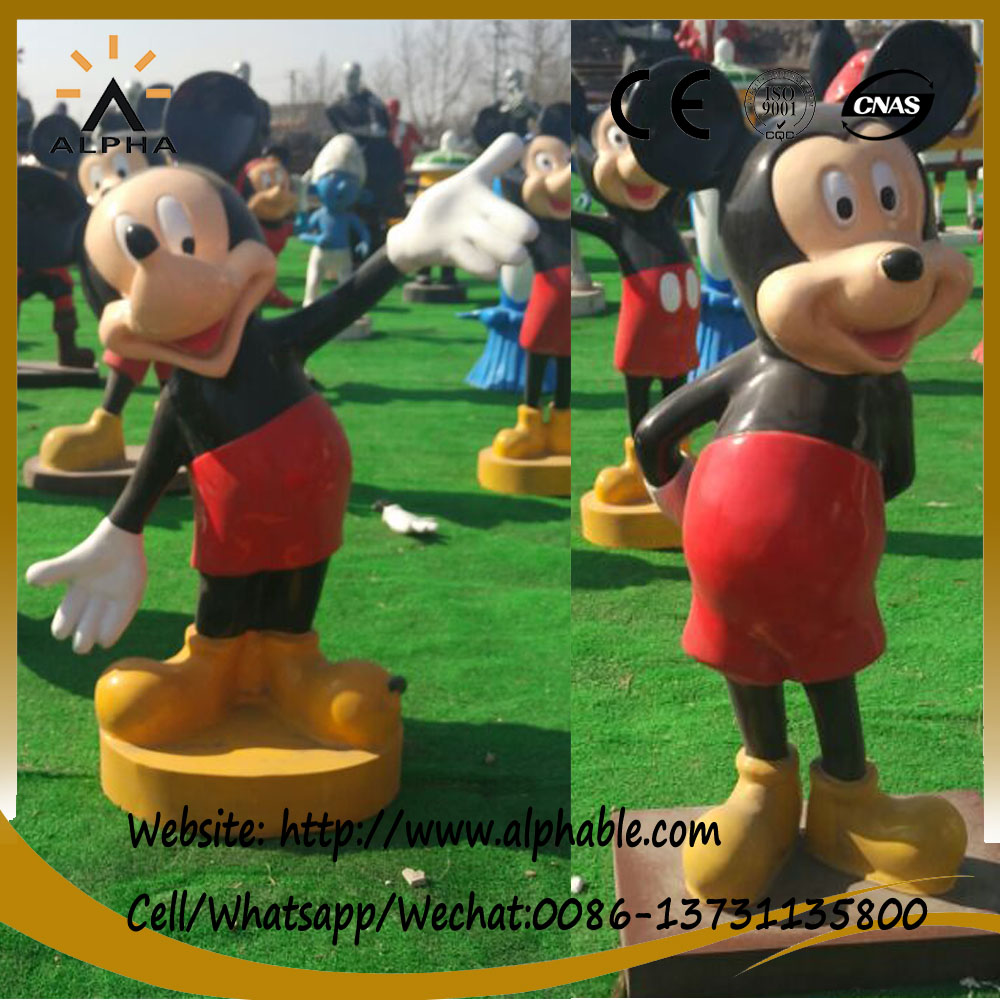Mickey: (15, 67, 265, 389)
